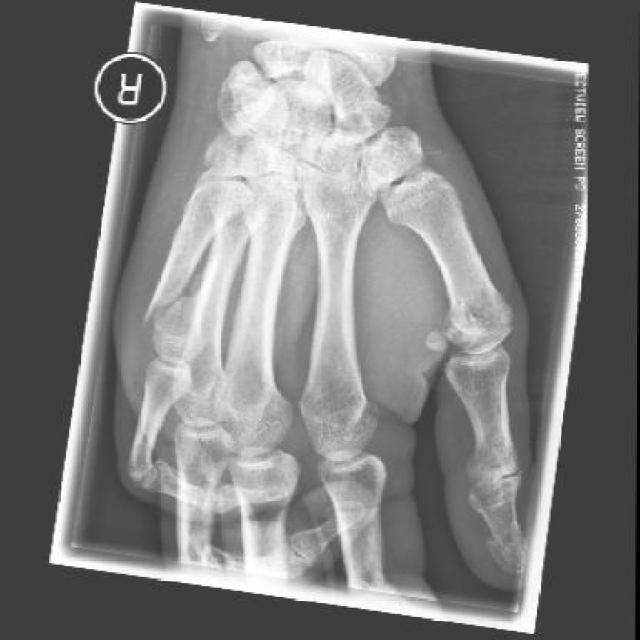Fracture: (140, 280, 210, 356)
